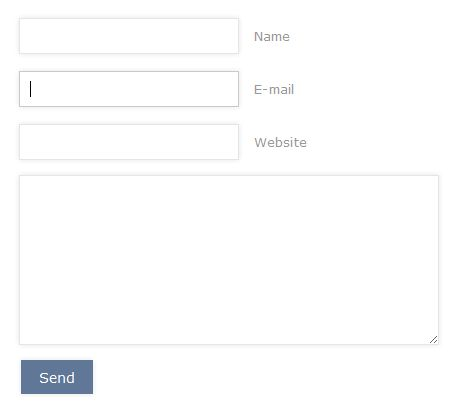_form_: (11, 6, 445, 411)
button: (20, 359, 94, 395)
field: (18, 175, 440, 345), (17, 17, 241, 54), (18, 70, 240, 107), (19, 123, 240, 160)
field_with_label: (16, 121, 306, 161), (17, 68, 293, 109), (15, 16, 291, 55)
